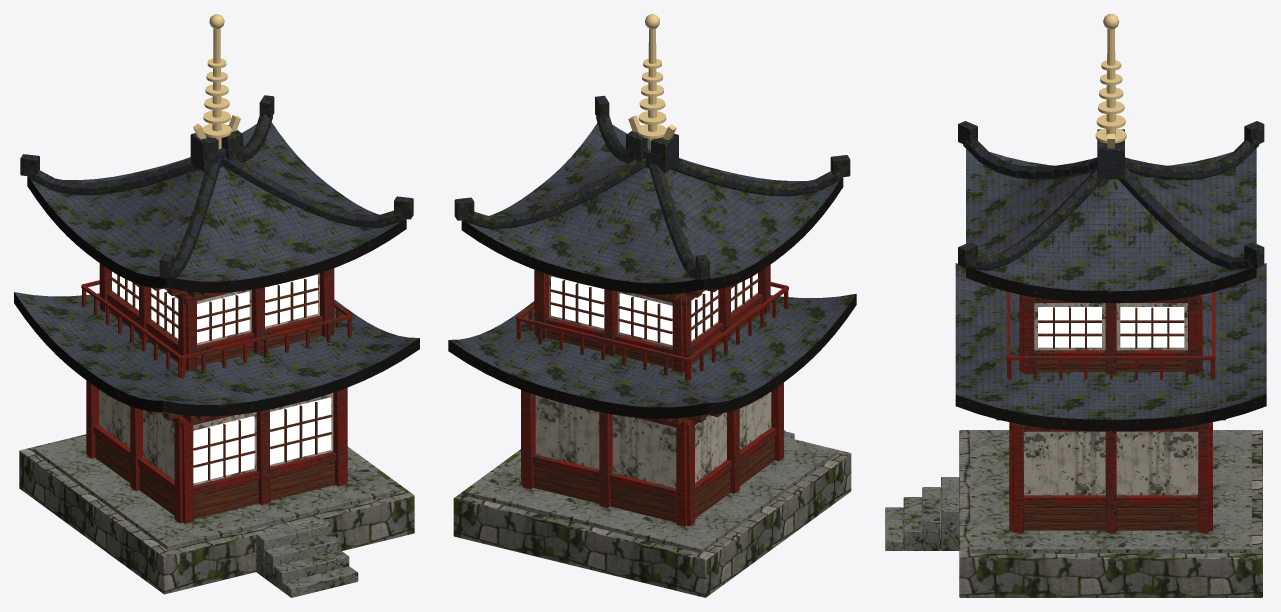
Rendered from Pagoda_2F.fbx.
The picture shows the model from 3 angles, left to right: view 1: azimuth 30°, elevation 25°; view 2: azimuth 150°, elevation 25°; view 3: azimuth 270°, elevation 25°; orthographic projection. The views are drawn at different scales.
Visible parts, largest first — view 1: Pagoda_2F_LOD0; view 2: Pagoda_2F_LOD0; view 3: Pagoda_2F_LOD0.
Boxes of the visible parts, x1,y1,x2,y2 form: Pagoda_2F_LOD0: (14, 14, 419, 597); Pagoda_2F_LOD0: (448, 14, 856, 597); Pagoda_2F_LOD0: (885, 14, 1266, 597).
Size of what is drawn, in the model's own units: 8.4 by 15.49 by 10.3.
